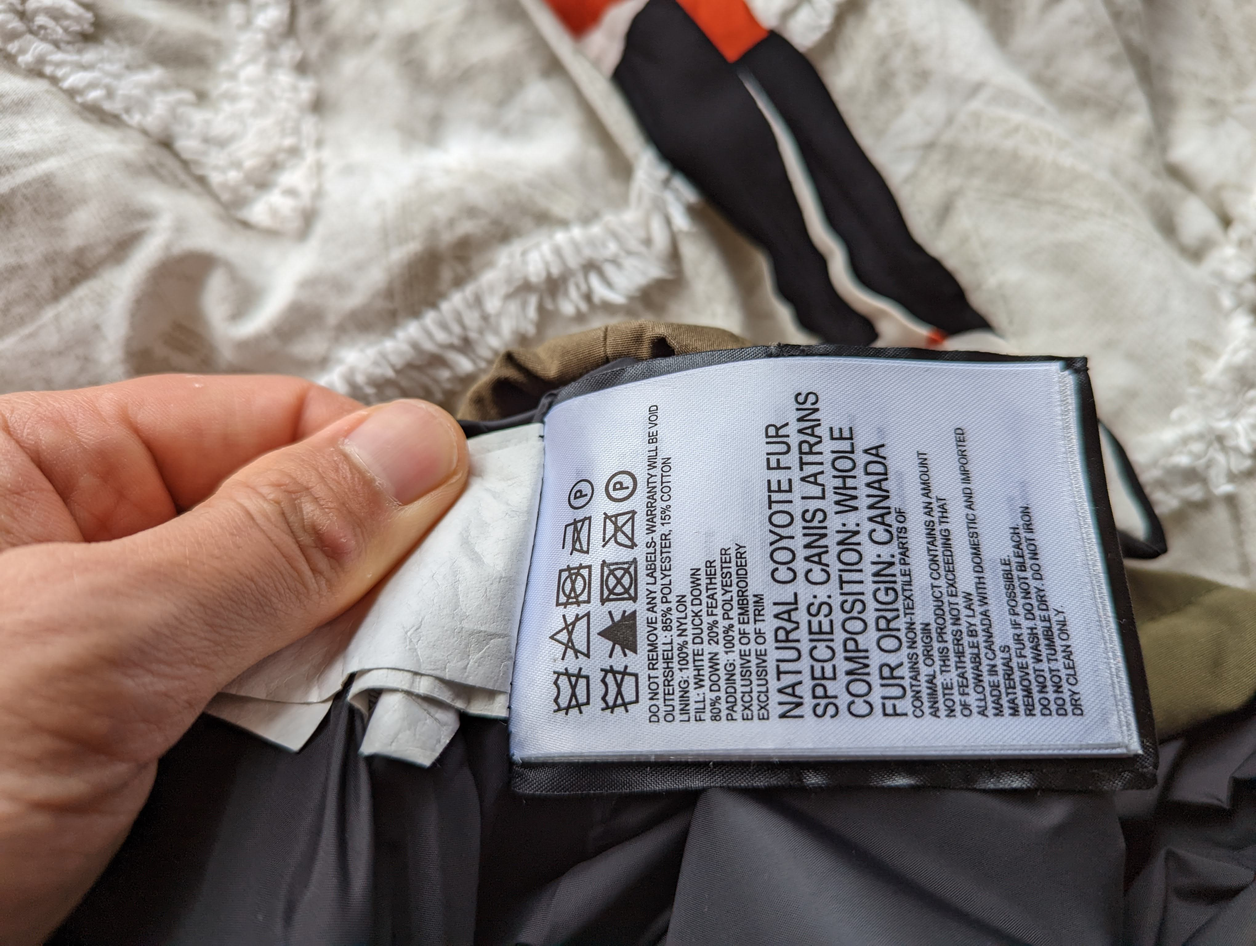ER_dry_clean_chemical: (564, 476, 597, 512)
ER_no_bleach: (546, 607, 594, 665)
ER_no_iron: (558, 514, 594, 559)
ER_no_tumble_dry: (550, 560, 594, 609)
ER_no_wash: (545, 662, 596, 719)
